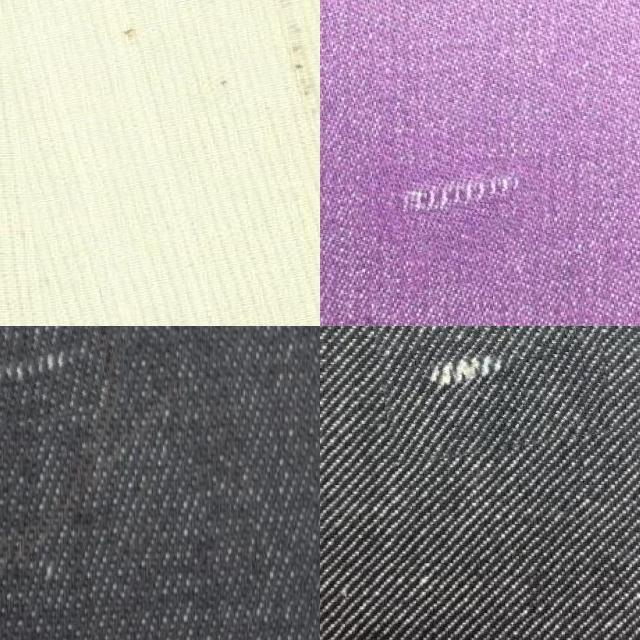stains: (377, 326, 611, 457), (0, 326, 127, 431), (386, 160, 544, 238)
